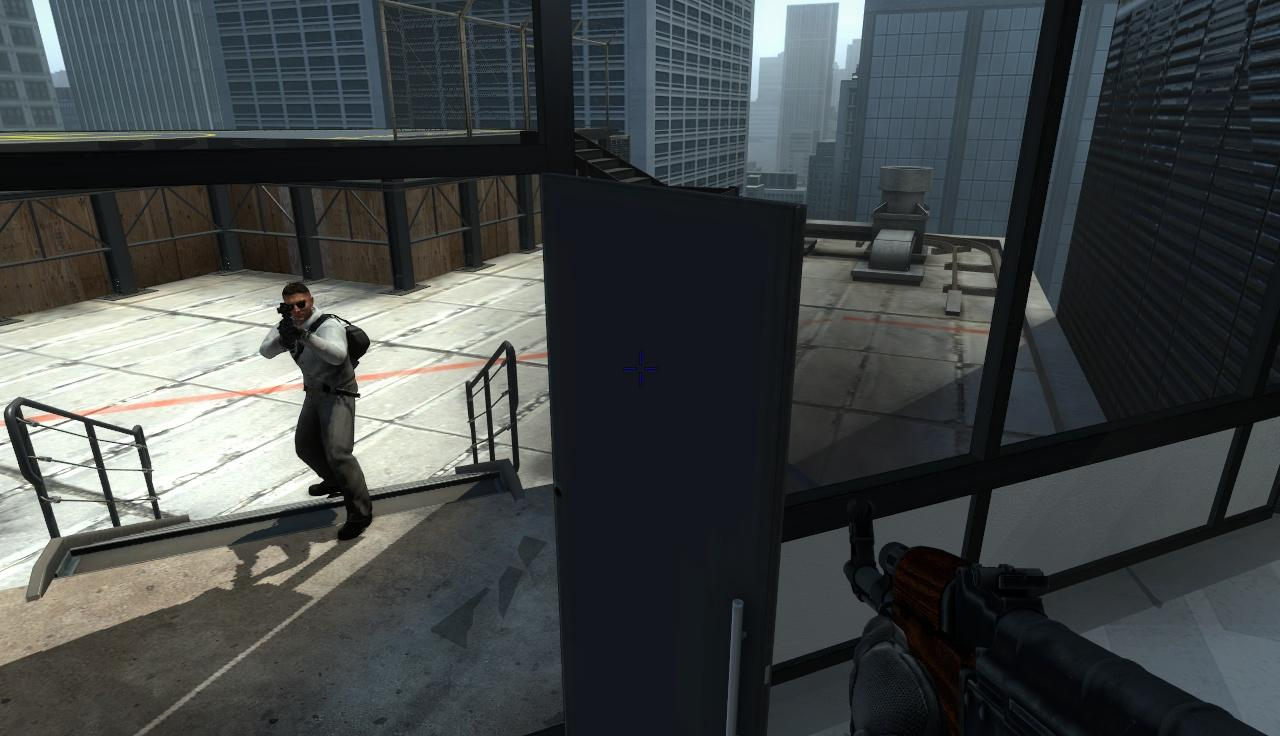rifle: (831, 503, 1280, 736)
tt: (270, 280, 360, 538)
tthead: (283, 282, 311, 321)
